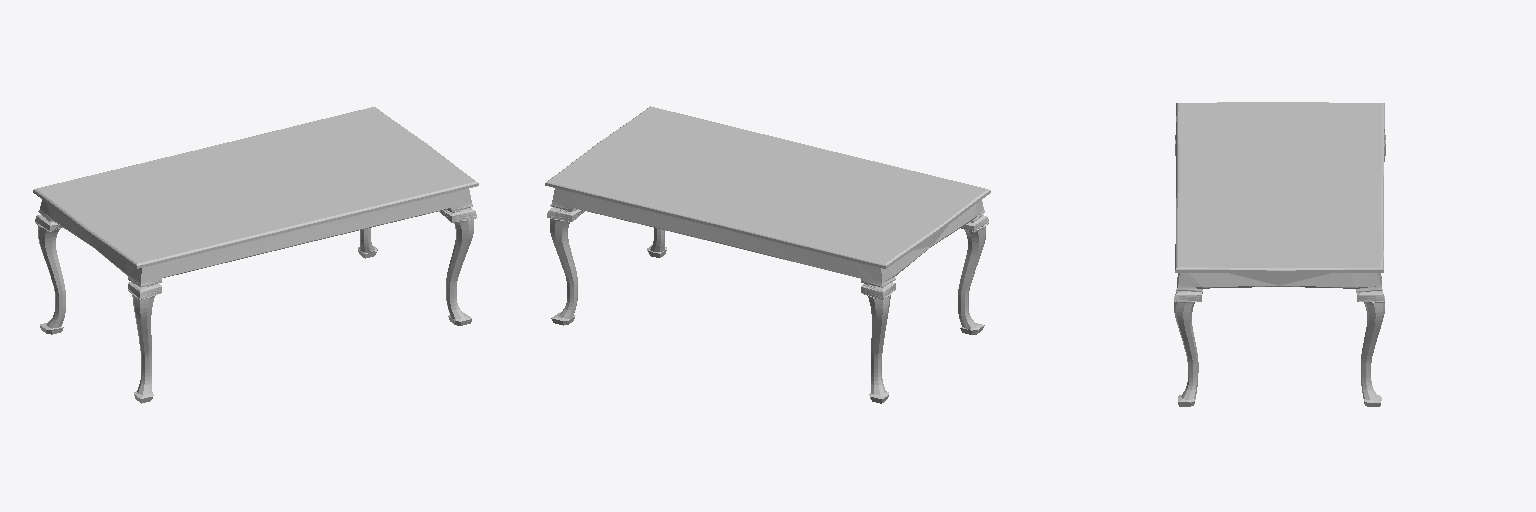
File: mesa.obj
3 views of the same model, side by side, from view 1: azimuth 30°, elevation 25°; view 2: azimuth 150°, elevation 25°; view 3: azimuth 270°, elevation 25° (orthographic).
Visible parts, largest first — view 1: pCube1_blinn1_0_blinn1; view 2: pCube1_blinn1_0_blinn1; view 3: pCube1_blinn1_0_blinn1.
Boxes of the visible parts, x1,y1,x2,y2 form: pCube1_blinn1_0_blinn1: [33, 107, 478, 403]; pCube1_blinn1_0_blinn1: [545, 106, 990, 403]; pCube1_blinn1_0_blinn1: [1174, 102, 1385, 406].
Size of the model in its own units: 0.0966 by 0.038 by 0.0517.